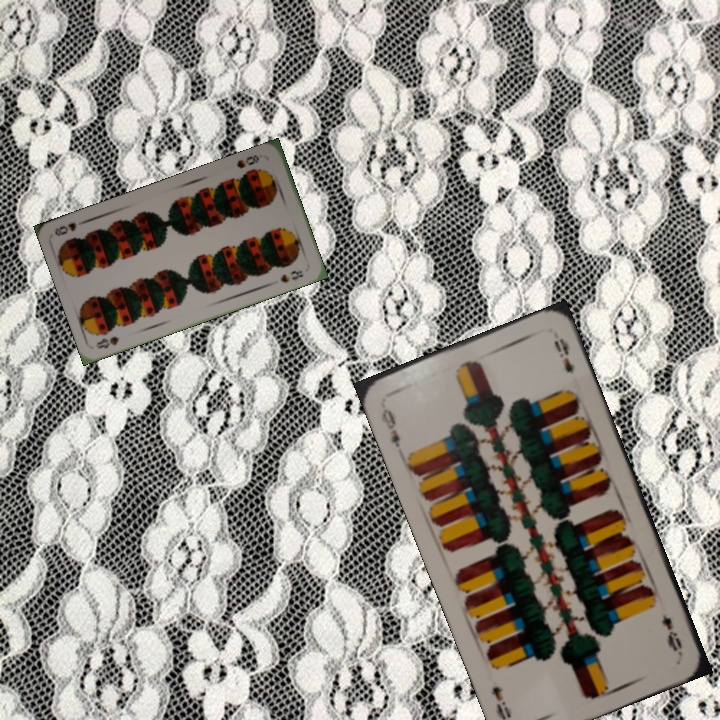E9: (376, 405, 405, 456), (657, 611, 685, 657)
S8: (232, 150, 262, 171), (92, 332, 122, 351)
